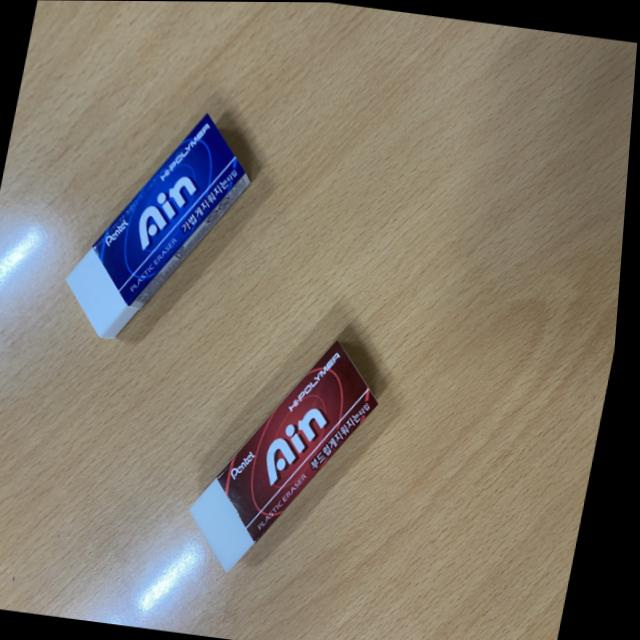blue: (54, 93, 269, 361)
red: (182, 320, 398, 596)
